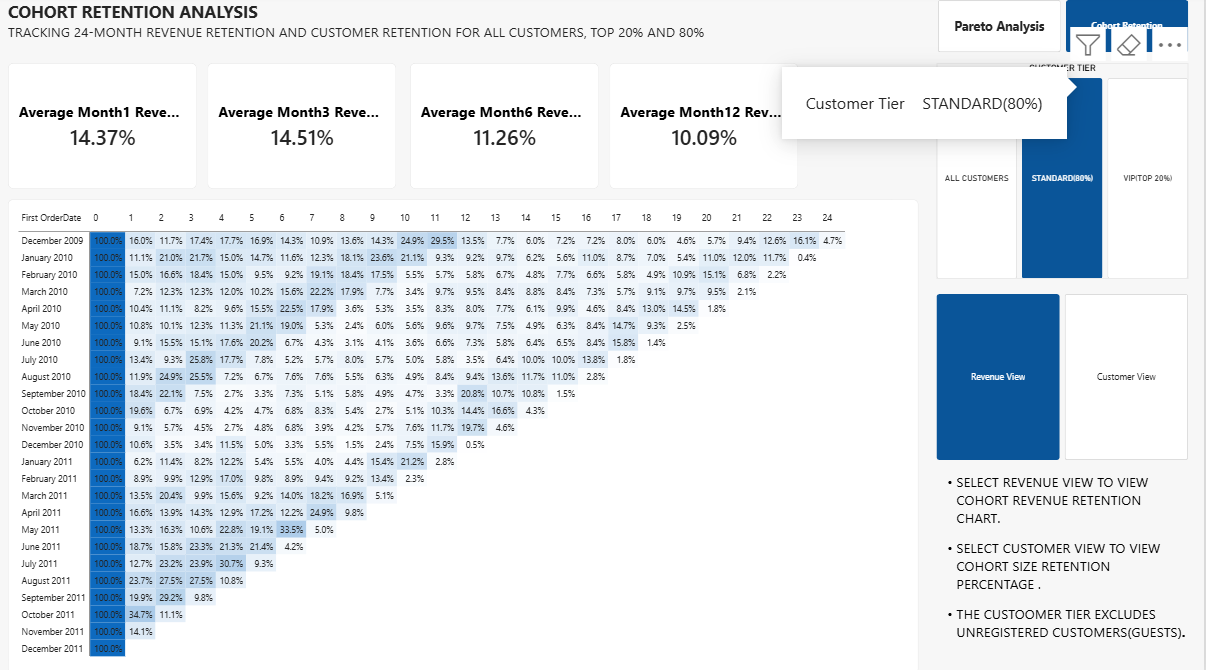

The dashboard page shown, as its layout file describes it:
{"tool":"powerbi","page":{"name":"Cohort Retention","canvas":[1920,1080],"ordinal":1},"visuals":[{"type":"pageNavigator","box":[1498.4,9.5,398.4,83.5],"z":0},{"type":"pivotTable","fields":{"Columns":["retailproject vw_cohort_retention_all.month_number"],"Rows":["retailproject vw_cohort_retention_all.first_order_date"],"Values":["retailproject vw_cohort_retention_all.Retention Percent"]},"box":[19.1,326.9,1412.5,737.2],"z":1000},{"type":"pivotTable","fields":{"Columns":["retailproject vw_cohort_retention_all.month_number"],"Rows":["retailproject vw_cohort_retention_all.first_order_date"],"Values":["retailproject vw_cohort_retention_all.Retention percentage"]},"box":[19.1,326.9,1448.3,753.9],"z":2000},{"type":"bookmarkNavigator","box":[1496,477.2,400.8,264.8],"z":3000},{"type":"advancedSlicerVisual","title":"CUSTOMER TIER","fields":{"Values":["retailproject vw_cohort_retention_all.segment"]},"box":[1496,109.8,400.8,343.6],"z":4000},{"type":"textbox","box":[20,10,1390.4,83.9],"z":5000},{"type":"cardVisual","fields":{"Data":["retailproject fact_sales.Average month1 retention"]},"box":[19.1,109.8,300,200],"z":6000},{"type":"cardVisual","fields":{"Data":["retailproject fact_sales.average month2 retention"]},"box":[336.4,109.8,300,200],"z":7000},{"type":"cardVisual","fields":{"Data":["retailproject fact_sales.average month6 retention"]},"box":[658.5,109.8,300,200],"z":8000},{"type":"cardVisual","fields":{"Data":["retailproject fact_sales.average year1 retention"]},"box":[975.8,109.8,300,200],"z":9000},{"type":"textbox","box":[1496,761.1,400.8,303],"z":9001}]}

Visuals, with their boxes on the page's 1920x1080 design canvas (x1, y1, x2, y2). These are canvas units, not pixel positions in the 1206x670 screenshot, which may show the page scaled, cropped or inside an application window:
pageNavigator: (1498, 10, 1897, 93)
pivotTable - retailproject vw_cohort_retention_all.month_number x retailproject vw_cohort_retention_all.first_order_date: (19, 327, 1432, 1064)
pivotTable - retailproject vw_cohort_retention_all.month_number x retailproject vw_cohort_retention_all.first_order_date: (19, 327, 1467, 1081)
bookmarkNavigator: (1496, 477, 1897, 742)
"CUSTOMER TIER" advancedSlicerVisual: (1496, 110, 1897, 453)
textbox: (20, 10, 1410, 94)
cardVisual - retailproject fact_sales.Average month1 retention: (19, 110, 319, 310)
cardVisual - retailproject fact_sales.average month2 retention: (336, 110, 636, 310)
cardVisual - retailproject fact_sales.average month6 retention: (658, 110, 958, 310)
cardVisual - retailproject fact_sales.average year1 retention: (976, 110, 1276, 310)
textbox: (1496, 761, 1897, 1064)
